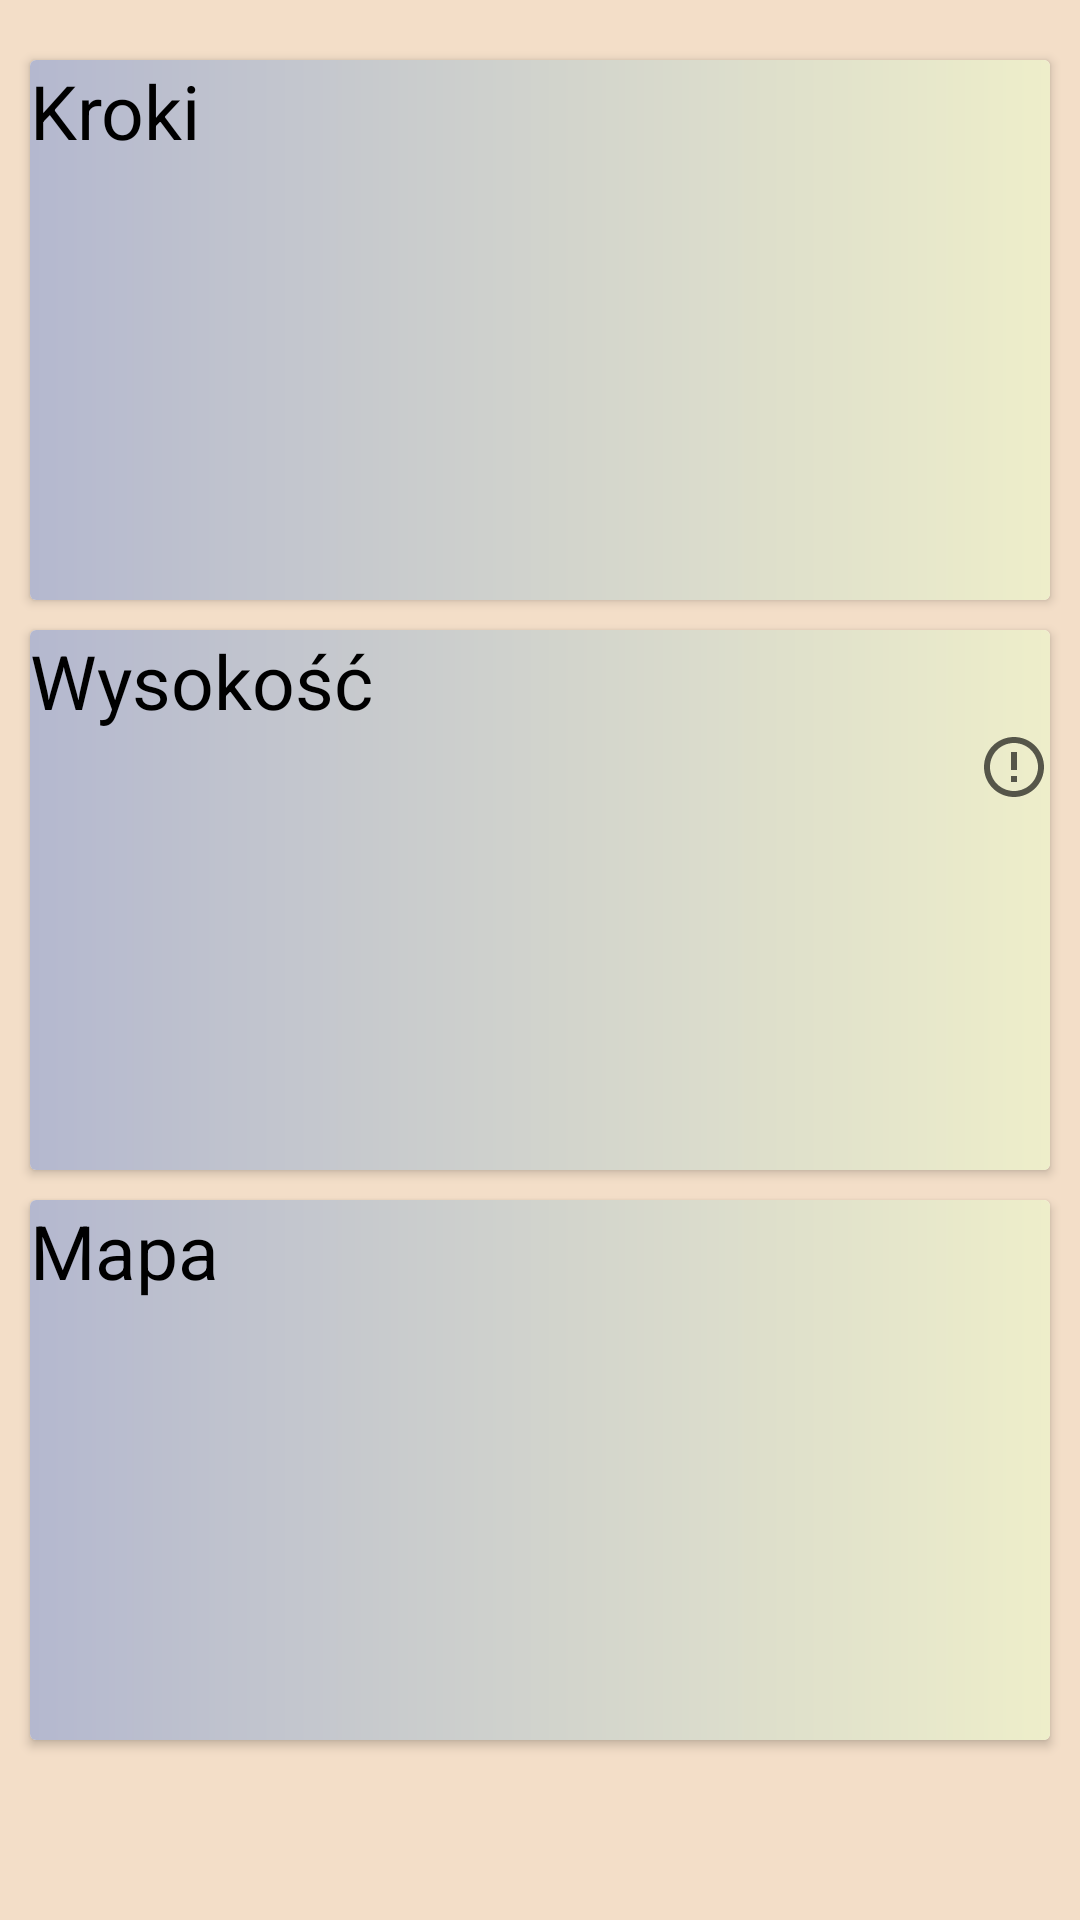

Where to tap for icons on this 1080w x 1920h app screen, as (x,y):
info: (1014,767)
